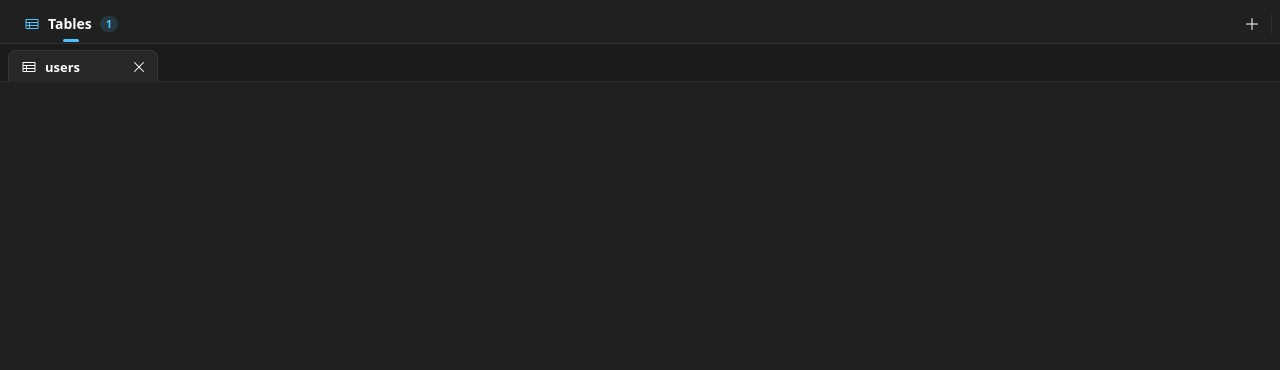
it: WorkspaceTabs › shows move actions disabled when movement is not possible
This screenshot has width=1280, height=370.
Right-click the element showing "users": (83, 66) [8, 50, 158, 82]
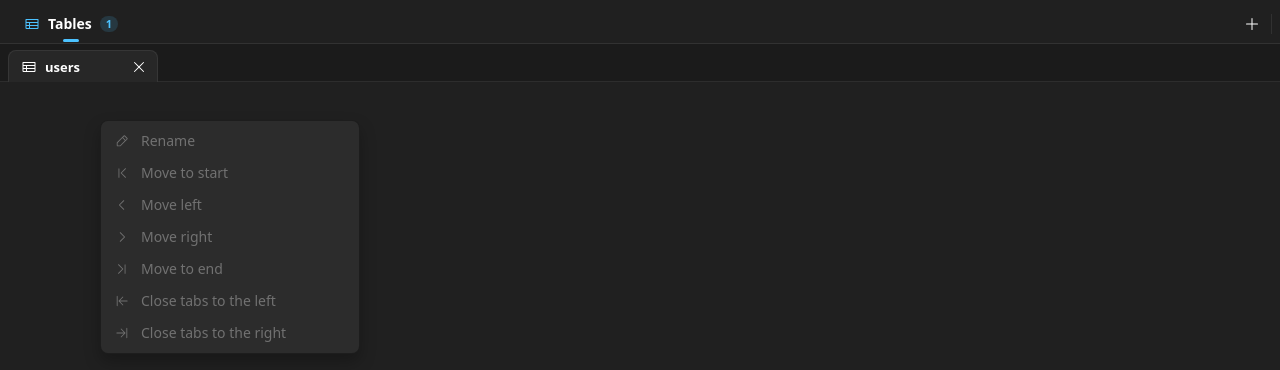
Expected: the menu item with test id "tab-context-menu-item-move-left" is disabled, [105, 189, 355, 221]
Expected: the menu item with test id "tab-context-menu-item-move-right" is disabled, [105, 221, 355, 253]
Expected: the menu item with test id "tab-context-menu-item-move-start" is disabled, [105, 157, 355, 189]
